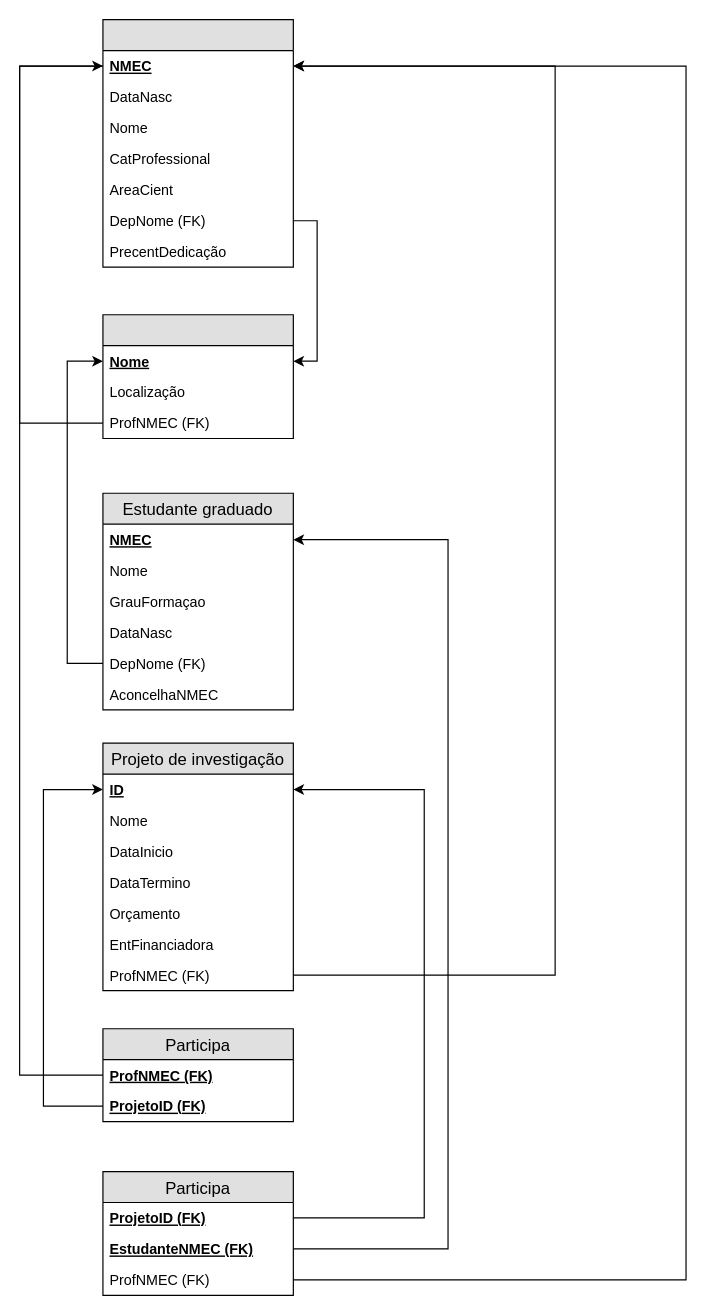
This 706x1315 diagram has some shape labels left out. Each missing label, with the box of its shape:
Departamento: (102, 314, 293, 439)
Professor: (102, 18, 293, 267)
